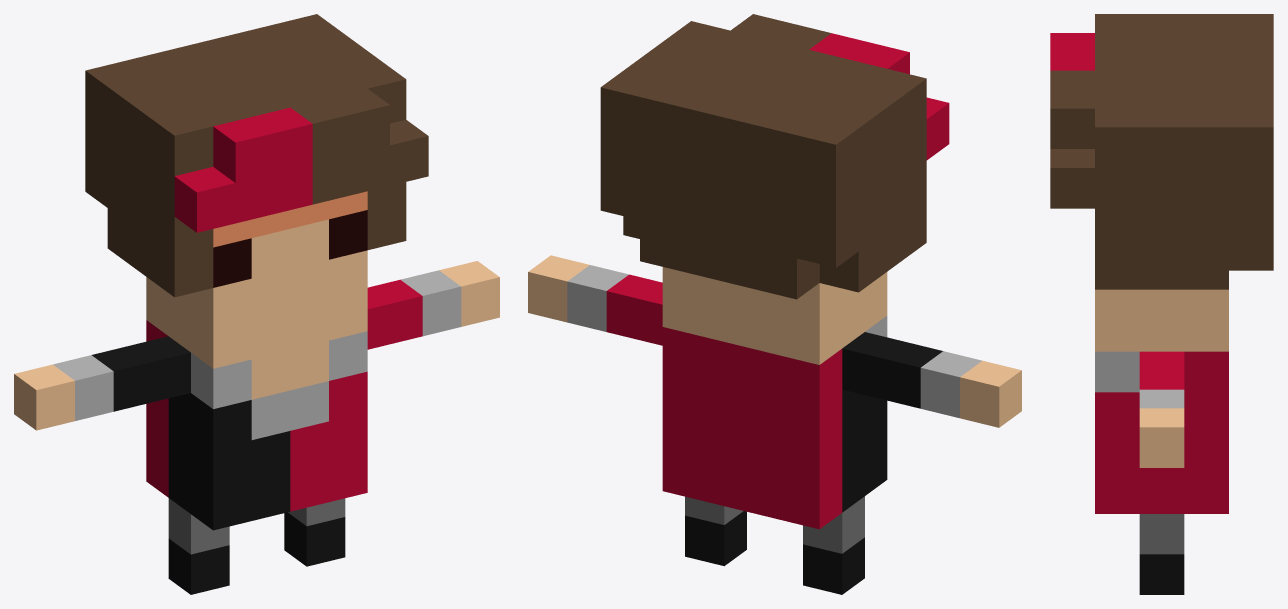
File: perso 2.obj
The picture shows the model from 3 angles, left to right: view 1: azimuth 30°, elevation 25°; view 2: azimuth 150°, elevation 25°; view 3: azimuth 270°, elevation 25°; orthographic projection.
Size of the model in its own units: 1.2 by 1.2 by 0.5.
Materials: 1 (1 with a texture image).
